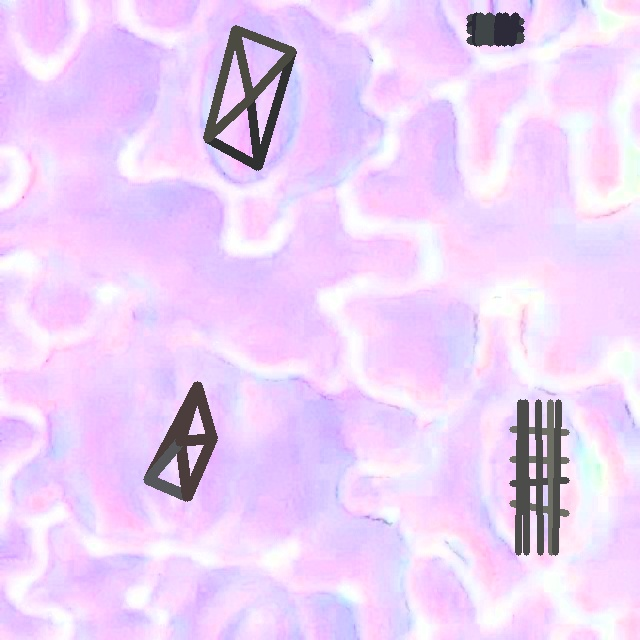close: (143, 381, 217, 501)
open: (203, 25, 296, 170), (510, 399, 569, 555), (467, 13, 524, 45)
